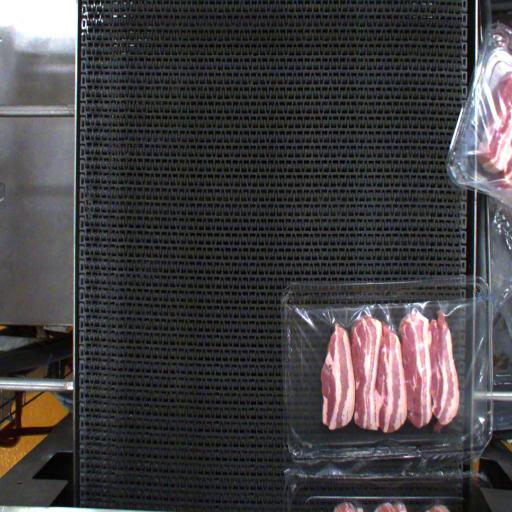unsealed: (288, 294, 490, 453)
